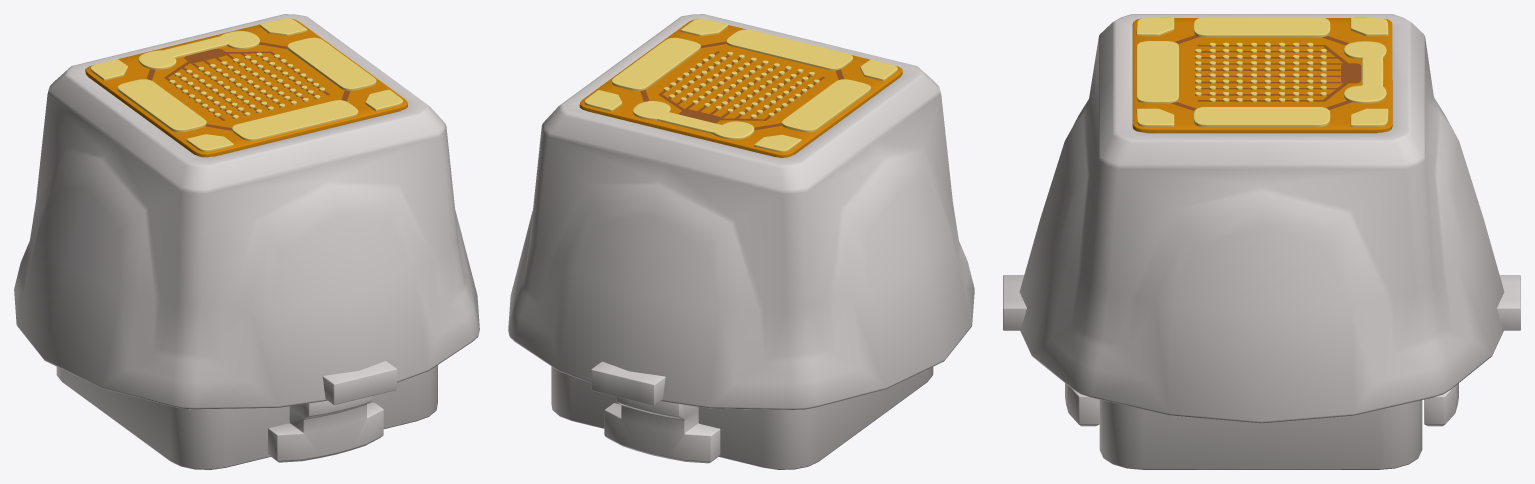
Rendered from therfect_frf_100_v2_240208.glb.
3 views of the same model, side by side, from view 1: azimuth 30°, elevation 25°; view 2: azimuth 150°, elevation 25°; view 3: azimuth 270°, elevation 25° (orthographic). The views are drawn at different scales.
Parts seen in each view (by area): view 1: frf_100; view 2: frf_100; view 3: frf_100.
Boxes of the visible parts, left/top/right/bottom form: frf_100: left=14, top=14, right=479, bottom=469; frf_100: left=508, top=14, right=974, bottom=469; frf_100: left=1003, top=14, right=1520, bottom=469.
Bounding box in the file's own units: 0.0993 × 0.0717 × 0.1017.
